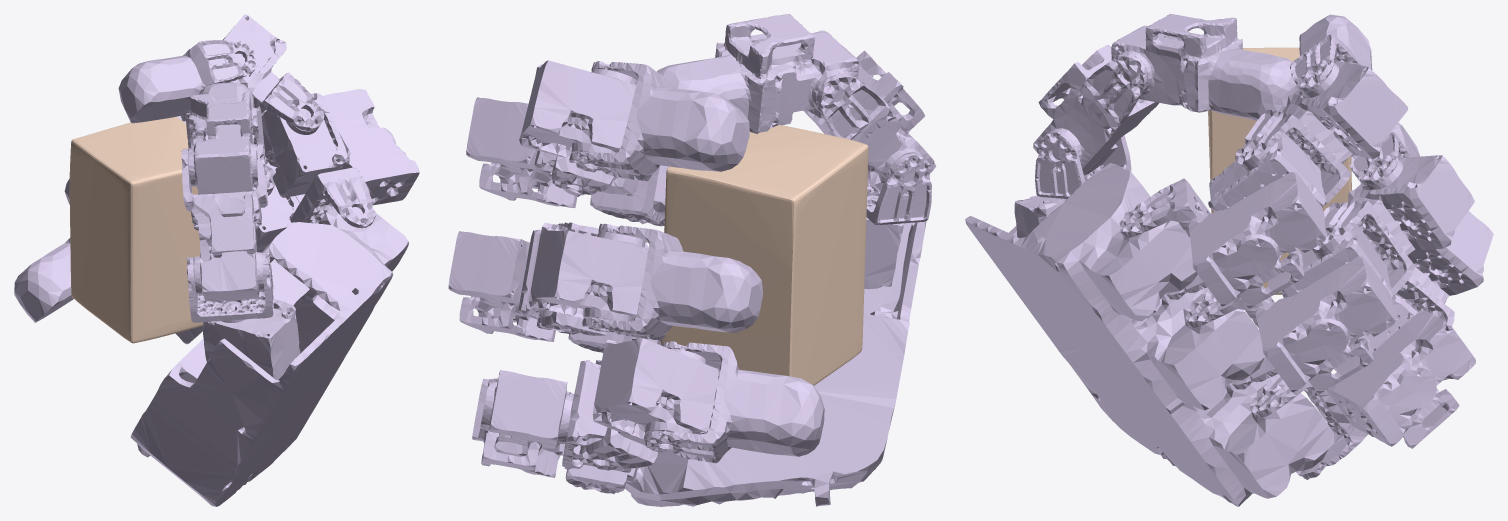
File: ccbe2744d0e17d-final.glb
The picture shows the model from 3 angles, left to right: view 1: azimuth 30°, elevation 25°; view 2: azimuth 150°, elevation 25°; view 3: azimuth 270°, elevation 25°; orthographic projection. The views are drawn at different scales.
Visible parts, largest first — view 1: LEAP_hand, world; view 2: LEAP_hand, world; view 3: LEAP_hand, world.
Boxes of the visible parts, <box> form: LEAP_hand: <box>14,14,419,506</box>; world: <box>69,116,202,343</box>; LEAP_hand: <box>448,14,936,506</box>; world: <box>660,125,868,385</box>; LEAP_hand: <box>965,14,1493,506</box>; world: <box>1208,47,1351,294</box>.
Size of the model in its own units: 0.1546 by 0.1813 by 0.1928.
